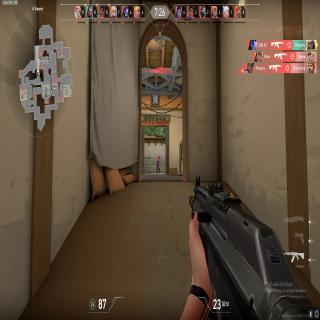ENEMY-BODY: (156, 155, 160, 174)
ENEMY-HEAD: (158, 156, 160, 158)
